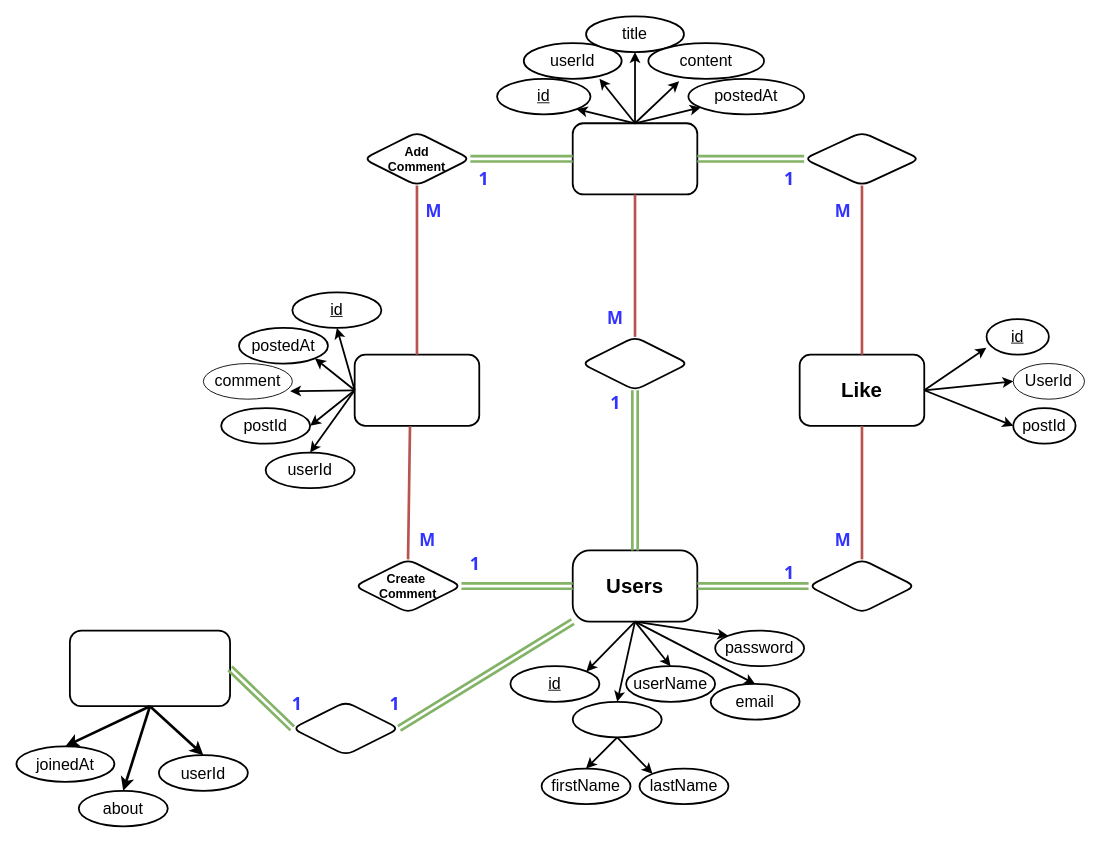
Image size: 1100x842. Some labels were removed from this diagram. Here are the shapes that lost their labels. From the top down, the box of each, then its label:
(571, 122, 698, 195): Posts
(803, 131, 920, 186): Add Like
(580, 336, 689, 391): Create Post
(353, 353, 480, 426): Comments
(807, 558, 916, 613): Create Like
(69, 629, 231, 707): User_information
(291, 700, 400, 756): Have Profile
(571, 700, 662, 738): name
